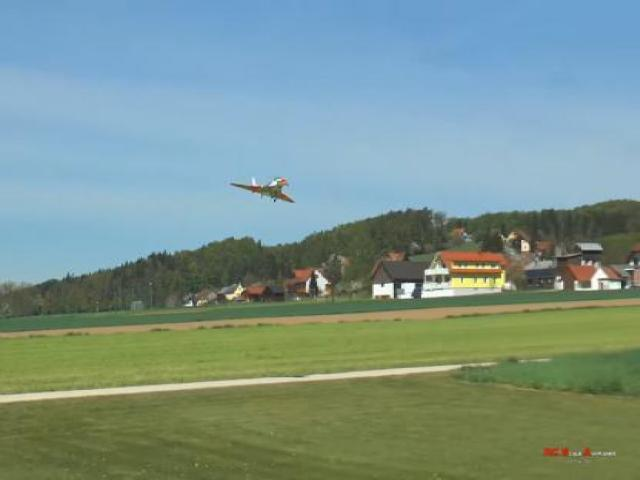uav: (228, 170, 298, 205)
